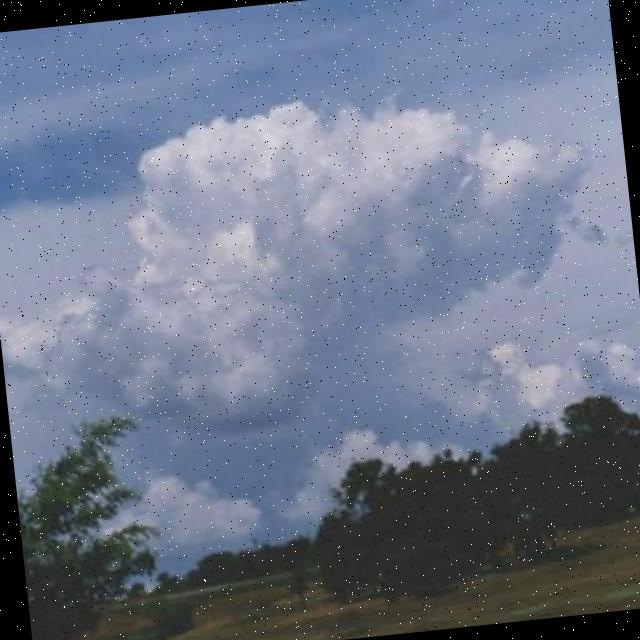Cs: (1, 34, 640, 434)
